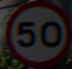Speed limit: (5, 3, 67, 59)
